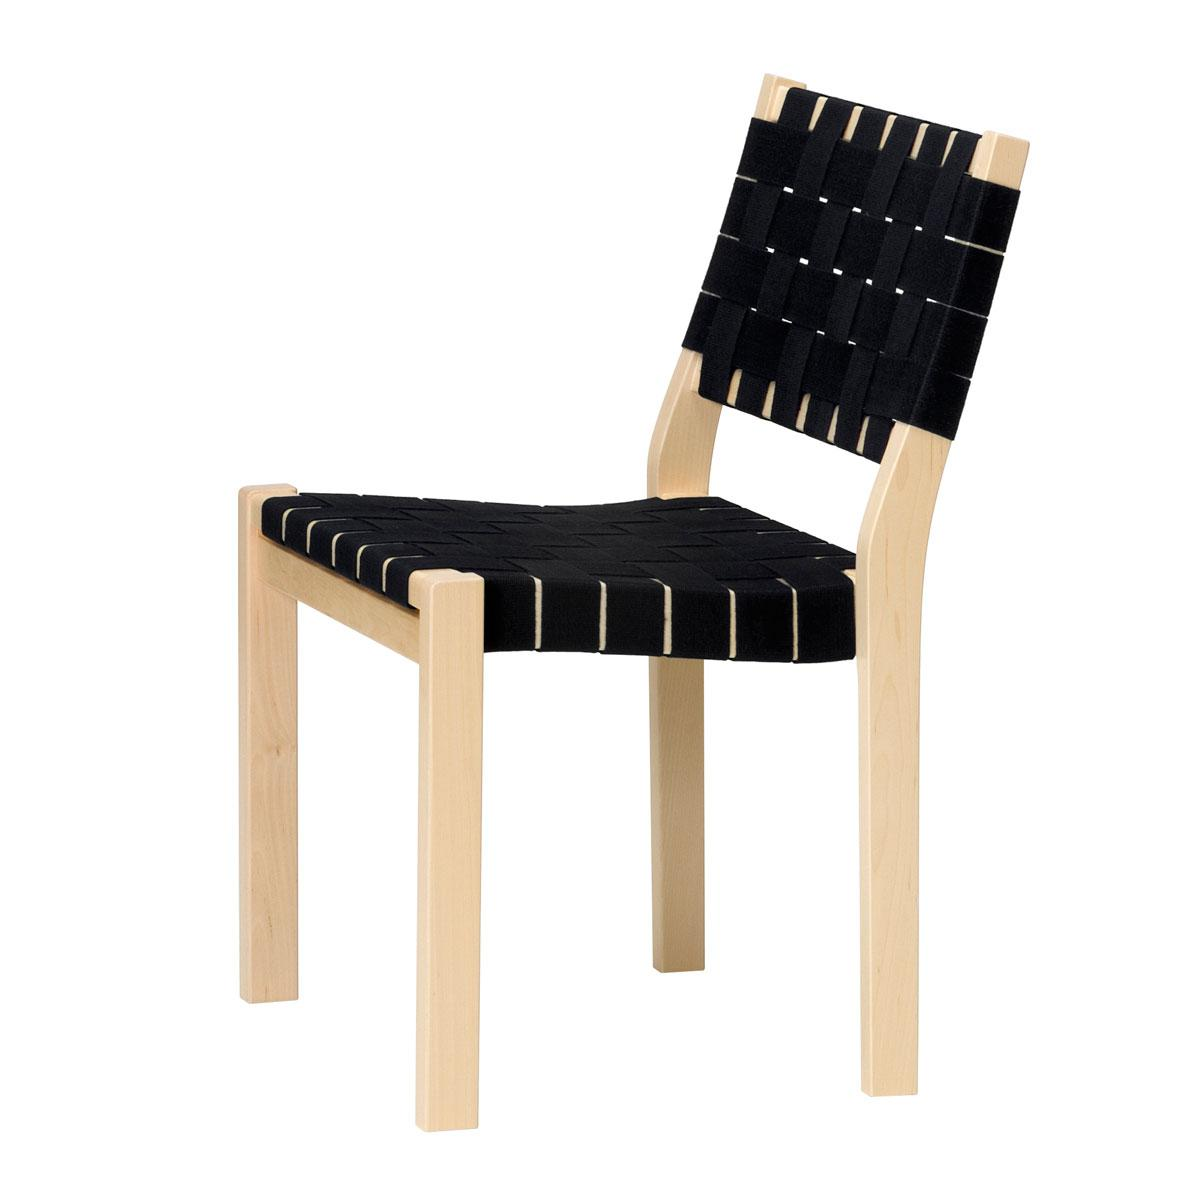chair: (176, 64, 1026, 1171)
